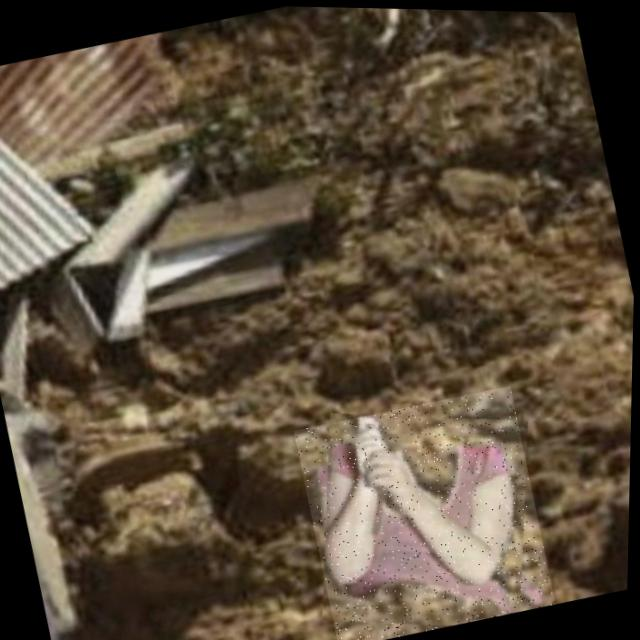Person in Rubble: (292, 379, 561, 640)
